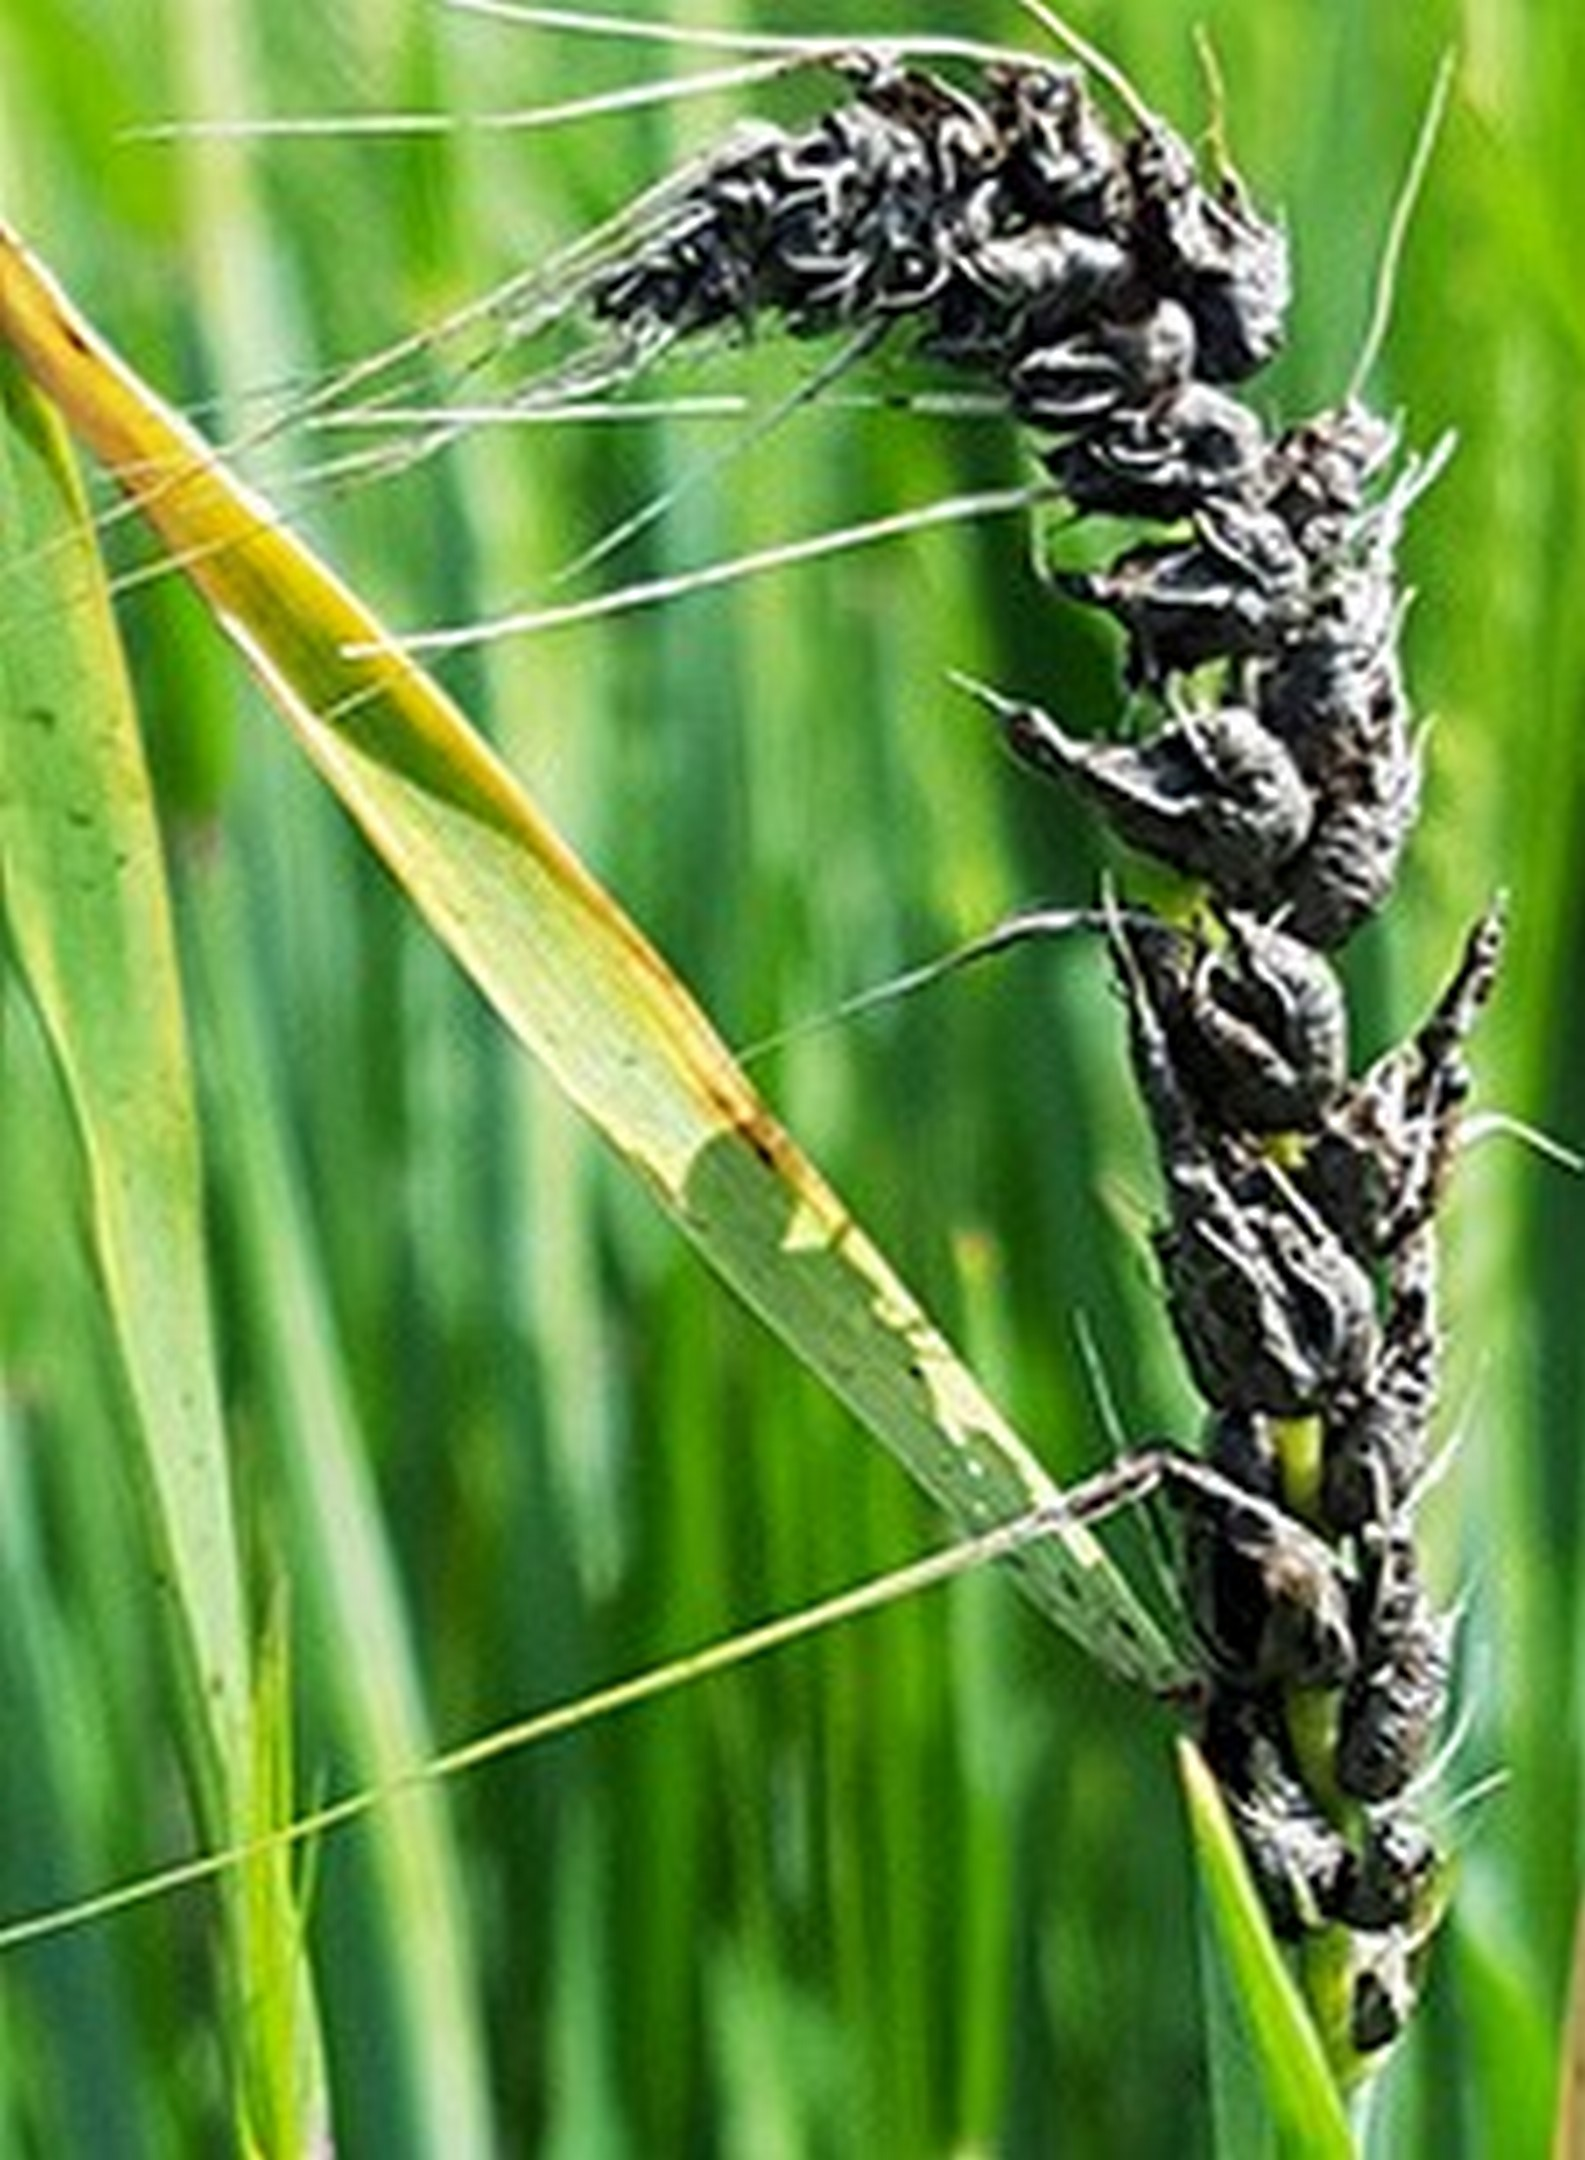Wheat Loose Smut: (485, 2, 1516, 1706)
